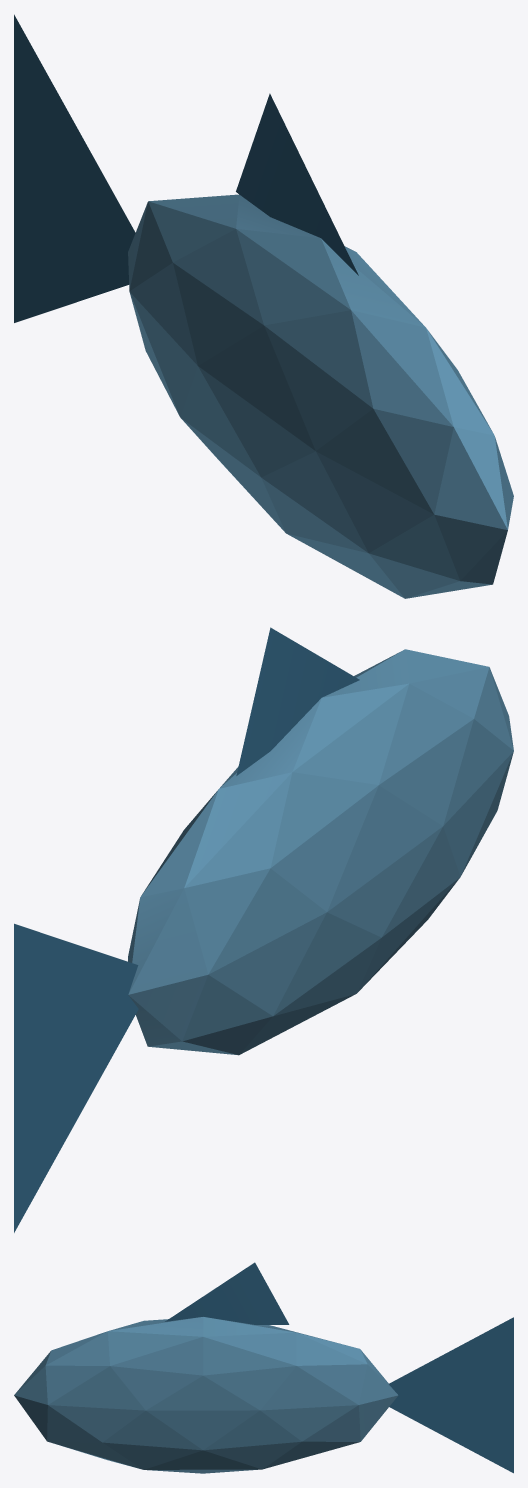
The model's file is FishRaw.fbx.
3 views of the same model, one above another, from view 1: azimuth 30°, elevation 25°; view 2: azimuth 150°, elevation 25°; view 3: azimuth 270°, elevation 25° (orthographic). The views are drawn at different scales.
Parts seen in each view (by area): view 1: FishRaw; view 2: FishRaw; view 3: FishRaw.
Boxes of the visible parts, x1,y1,x2,y2 form: FishRaw: (14, 14, 513, 598); FishRaw: (14, 627, 513, 1232); FishRaw: (14, 1262, 513, 1473).
Bounding box in the file's own units: 0.0853 × 0.2701 × 0.5792.
